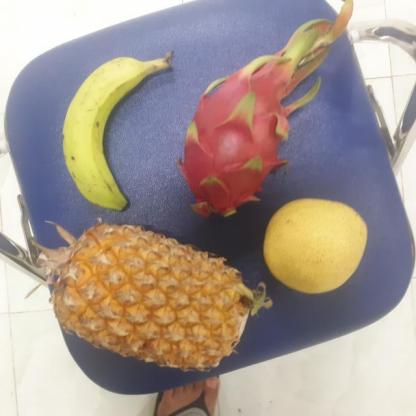banana: (60, 58, 166, 210)
pear: (259, 199, 368, 292)
pineapple: (52, 222, 252, 381)
pitaya: (171, 62, 298, 218)
